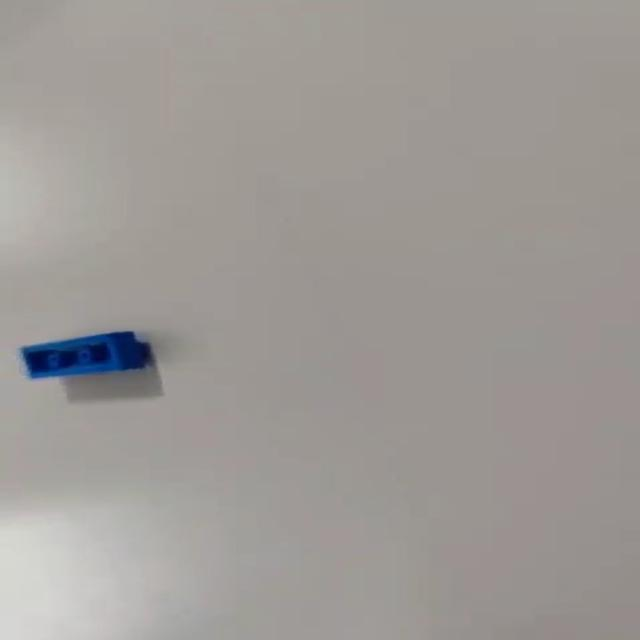C3x1x0: (18, 330, 154, 381)
